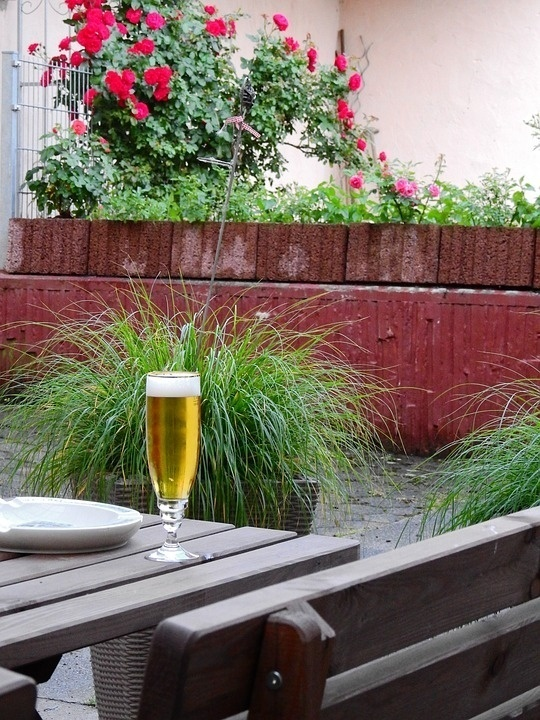whiskey: (138, 371, 204, 558)
